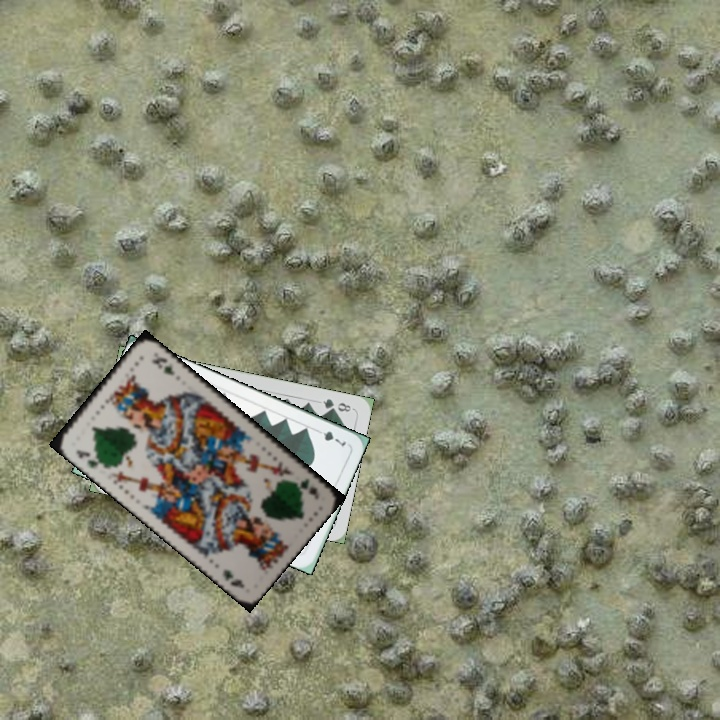G7: (311, 425, 349, 449)
G8: (319, 394, 354, 414)
GK: (288, 475, 322, 502), (71, 445, 105, 471)
